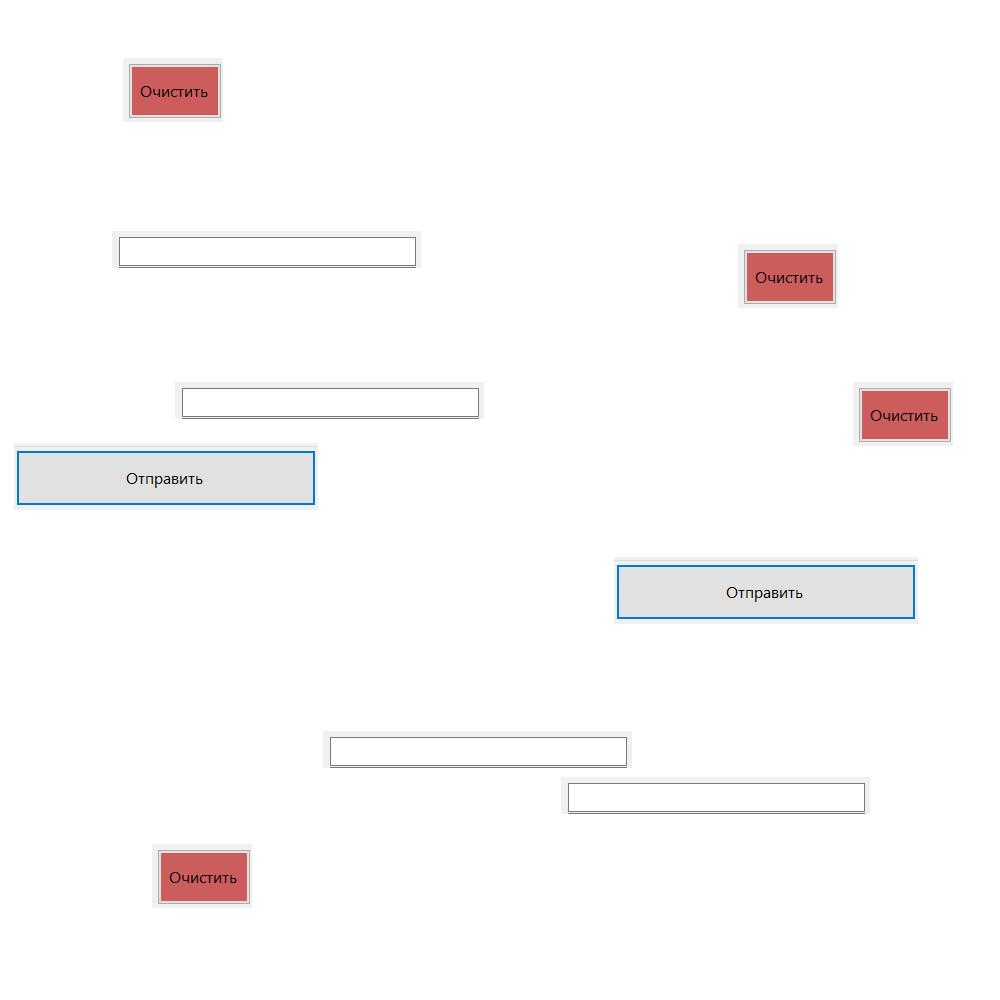Button: (14, 443, 318, 510), (614, 557, 918, 624), (123, 58, 223, 122), (152, 844, 252, 908), (738, 244, 838, 308), (853, 382, 953, 446)
EditText-: (561, 777, 870, 814), (323, 731, 632, 768), (175, 382, 484, 419), (112, 231, 421, 268)
